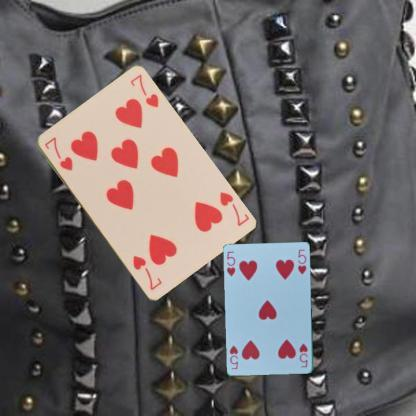5h: (224, 248, 236, 278), (297, 341, 309, 369)
7h: (216, 190, 250, 228), (41, 134, 74, 172)
